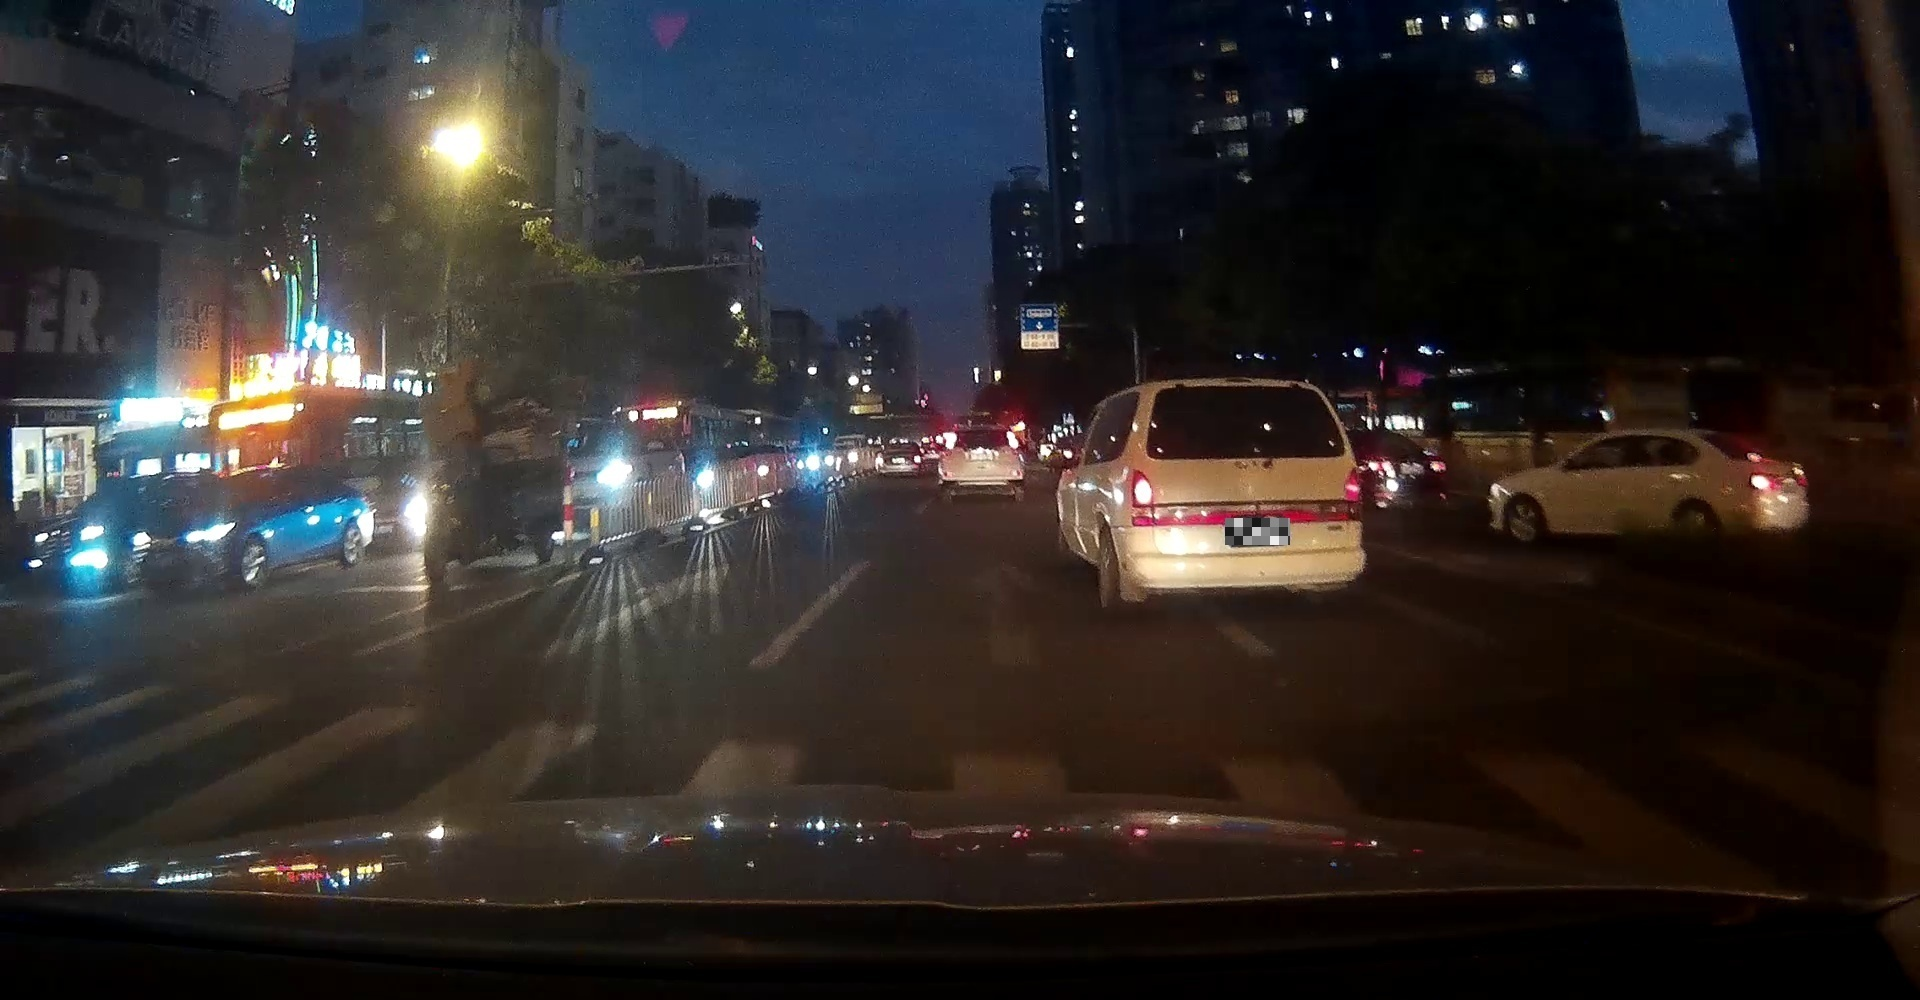L_light: (1130, 468, 1156, 525)
R_light: (1343, 467, 1363, 522)
T_light: (1225, 378, 1253, 383)
night-no: (1120, 377, 1366, 610)
plate_1: (1225, 518, 1290, 544)
